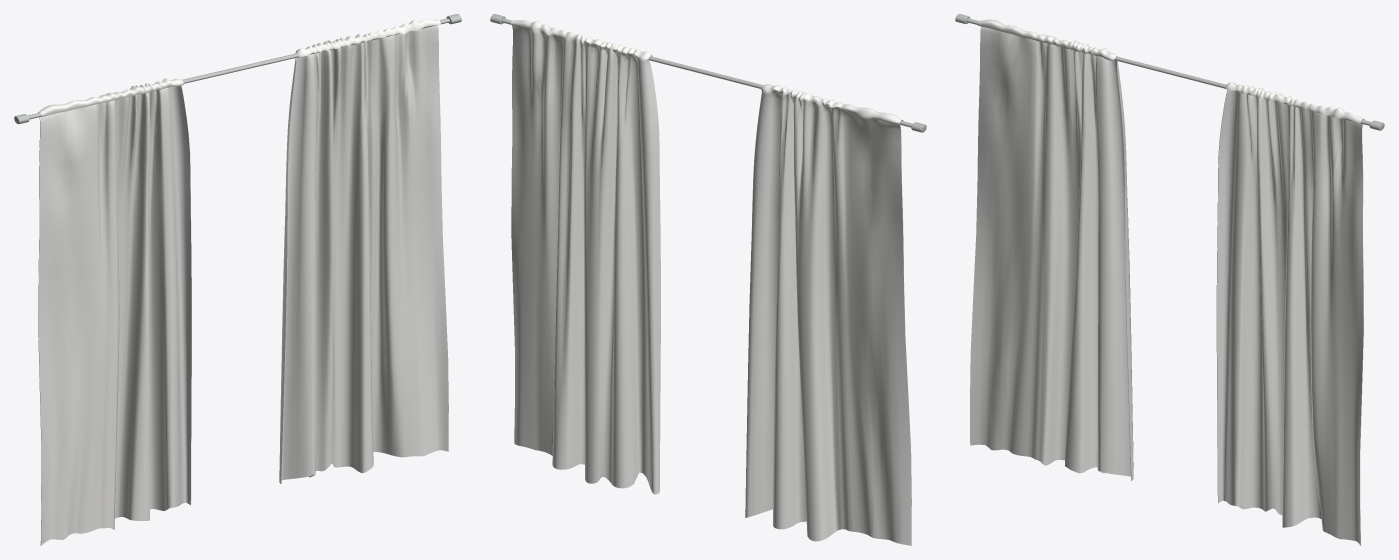
Rendered from sheetBlind.glb.
3 renders of one model, left to right at view 1: azimuth 30°, elevation 25°; view 2: azimuth 150°, elevation 25°; view 3: azimuth 330°, elevation 25°, orthographic.
Parts seen in each view (by area): view 1: fabric_03_08; view 2: fabric_03_08; view 3: fabric_03_08.
Boxes of the visible parts, bbox=[...] form: fabric_03_08: bbox=[14, 14, 461, 545]; fabric_03_08: bbox=[490, 14, 926, 545]; fabric_03_08: bbox=[955, 14, 1384, 545].
Size of the model in its own units: 49.9 by 47.91 by 3.99.
Materials: 1 (1 with a texture image).
